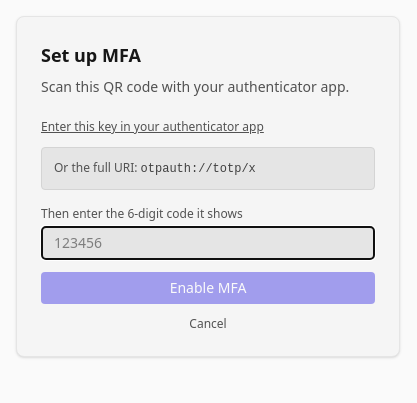
Scenario: MfaSetupPage › keeps the code form up and shows the error when the code is rejected
The image size is (417, 403).
Expected: the text "otpauth://totp/x" is shown, 141,162 -> 256,176
Type "000000" into the field with placeholder "123456" at (208, 243), box 41,226 -> 375,260
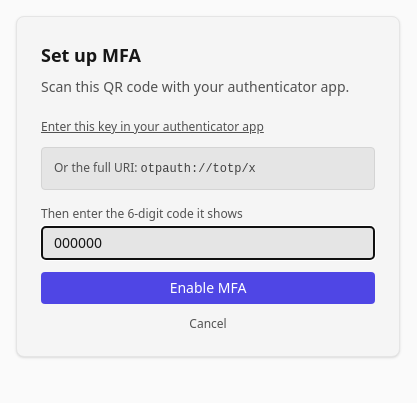
Click the button "Enable MFA" at (208, 288), box 41,272 -> 375,304
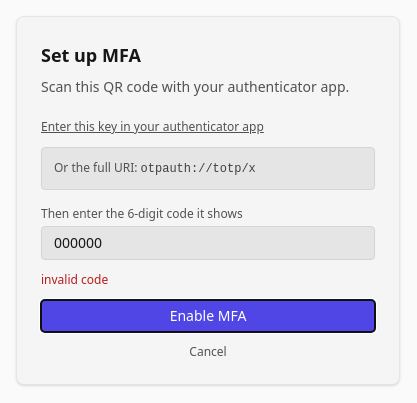
Expected: the button "Enable MFA" is shown, 41,300 -> 375,332
Expected: the text "invalid code" is shown, 41,271 -> 108,288
